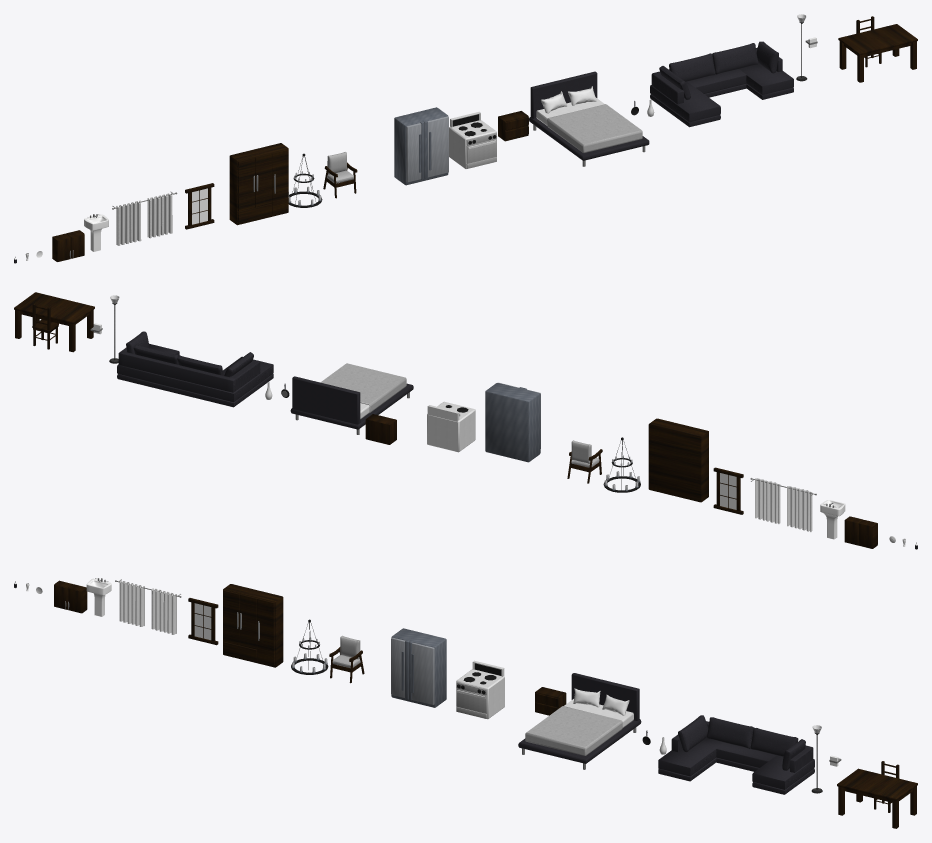
File: Scaled properly models.FBX
3 views of the same model, one above another, from view 1: azimuth 30°, elevation 25°; view 2: azimuth 150°, elevation 25°; view 3: azimuth 330°, elevation 25° (orthographic).
Parts seen in each view (by area): view 1: Sofa, Bed, Wardrobe, Fridge, Stove, Dining table, Curtain, Window frame, Bed room chair, Side table, Sink (Washroom), Candle shandalier; view 2: Sofa, Bed, Wardrobe, Fridge, Curtain, Stove, Dining table, Window frame, Bed room chair, Side table, Chair, Candle shandalier (+1 smaller); view 3: Sofa, Bed, Wardrobe, Fridge, Stove, Dining table, Curtain, Window frame, Bed room chair, Side table, Candle shandalier, Sink (Washroom) (+1 smaller).
Part boxes in pixels (left/top/right/bottom): Sofa: left=650, top=41, right=793, bottom=127; Bed: left=529, top=71, right=649, bottom=166; Wardrobe: left=229, top=143, right=288, bottom=225; Fridge: left=394, top=107, right=448, bottom=185; Stove: left=449, top=111, right=496, bottom=168; Dining table: left=838, top=24, right=917, bottom=82; Curtain: left=112, top=191, right=177, bottom=245; Window frame: left=185, top=183, right=214, bottom=229; Bed room chair: left=323, top=152, right=357, bottom=198; Side table: left=498, top=111, right=528, bottom=141; Sink (Washroom): left=84, top=214, right=108, bottom=251; Candle shandalier: left=288, top=153, right=322, bottom=207; Sofa: left=117, top=331, right=273, bottom=407; Bed: left=290, top=363, right=413, bottom=434; Wardrobe: left=648, top=418, right=708, bottom=502; Fridge: left=485, top=382, right=540, bottom=462; Curtain: left=750, top=478, right=816, bottom=531; Stove: left=427, top=401, right=475, bottom=452; Dining table: left=14, top=292, right=94, bottom=352; Window frame: left=713, top=467, right=743, bottom=514; Bed room chair: left=567, top=440, right=602, bottom=483; Side table: left=365, top=414, right=396, bottom=444; Chair: left=32, top=303, right=58, bottom=349; Candle shandalier: left=603, top=437, right=640, bottom=492; Sofa: left=658, top=715, right=814, bottom=794; Bed: left=518, top=673, right=641, bottom=769; Wardrobe: left=223, top=584, right=283, bottom=667; Fridge: left=391, top=628, right=446, bottom=707; Stove: left=456, top=660, right=504, bottom=719; Dining table: left=837, top=768, right=917, bottom=828; Curtain: left=115, top=579, right=181, bottom=634; Window frame: left=188, top=598, right=218, bottom=645; Bed room chair: left=329, top=635, right=364, bottom=683; Side table: left=535, top=687, right=566, bottom=715; Candle shandalier: left=291, top=619, right=328, bottom=674; Sink (Washroom): left=86, top=578, right=111, bottom=616.
Size of the model in its own units: 3079 by 216 by 330.
13 materials, 12 textured.
